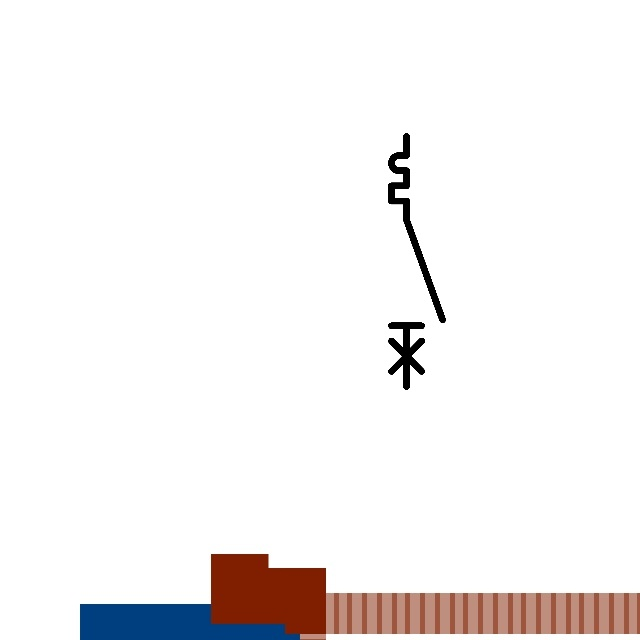interruptor_termomagnetico: (385, 130, 449, 393)
